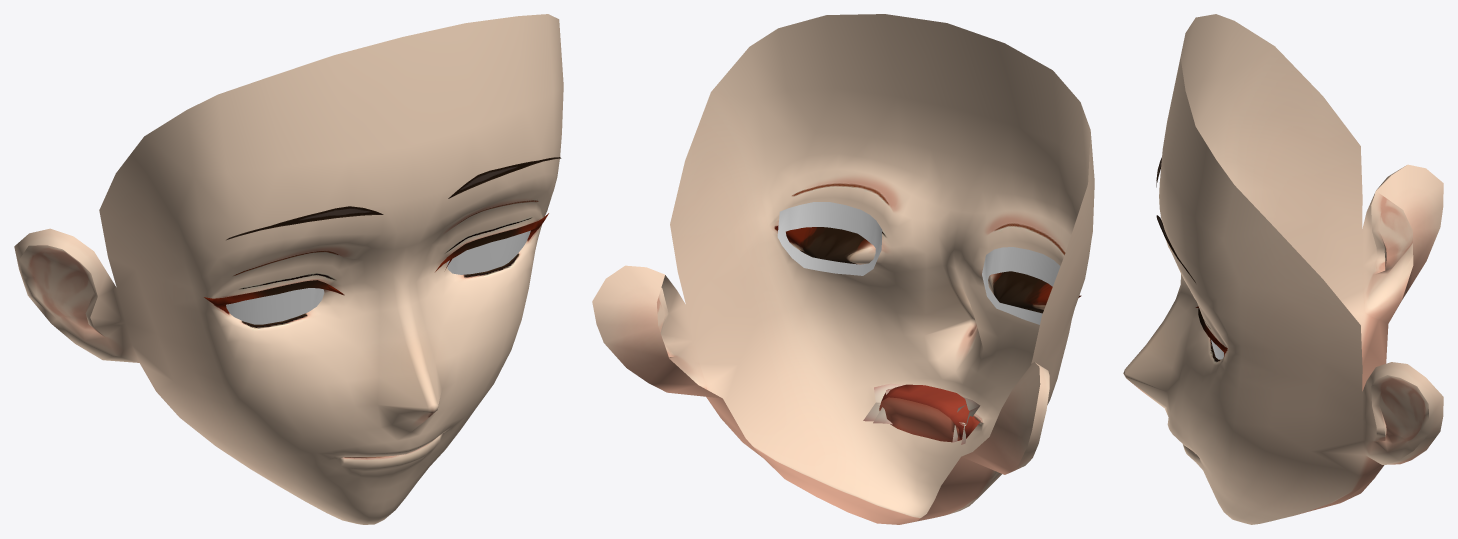
The model's file is Ritsu.fbx.
3 views of the same model, side by side, from view 1: azimuth 30°, elevation 25°; view 2: azimuth 150°, elevation 25°; view 3: azimuth 270°, elevation 25° (orthographic). The views are drawn at different scales.
Visible parts, largest first — view 1: M_Head, M_Eye_B_Def, M_Mth_B_Def, M_PupALL_R_A_Def, M_PupALL_L_A_Def, M_Brw_B_Def; view 2: M_Head, M_Eye_B_Def, M_Mth_B_Def, M_PupALL_L_A_Def, M_PupALL_R_A_Def; view 3: M_Head, M_Eye_B_Def, M_Mth_B_Def.
Boxes of the visible parts, <box> form: M_Head: <box>14,14,563,397</box>; M_Eye_B_Def: <box>148,134,561,412</box>; M_Mth_B_Def: <box>140,351,510,524</box>; M_PupALL_R_A_Def: <box>226,288,324,324</box>; M_PupALL_L_A_Def: <box>447,230,530,274</box>; M_Brw_B_Def: <box>226,157,561,240</box>; M_Head: <box>592,14,1094,474</box>; M_Eye_B_Def: <box>715,132,1092,404</box>; M_Mth_B_Def: <box>706,321,1025,524</box>; M_PupALL_L_A_Def: <box>777,202,882,275</box>; M_PupALL_R_A_Def: <box>982,247,1060,324</box>; M_Head: <box>1159,14,1443,464</box>; M_Eye_B_Def: <box>1123,115,1279,447</box>; M_Mth_B_Def: <box>1125,313,1388,524</box>.
Bounding box in the file's own units: 0.1778 × 0.1771 × 0.1112.
Materials: 5 (3 with a texture image).
